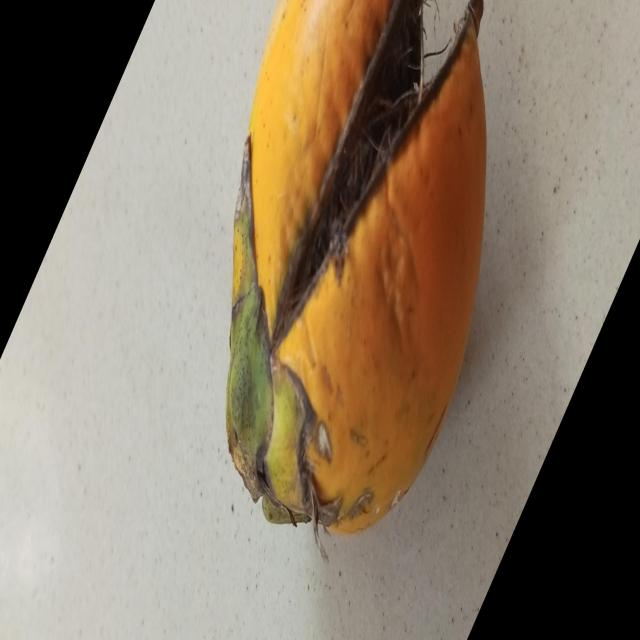damaged: (225, 0, 488, 537)
